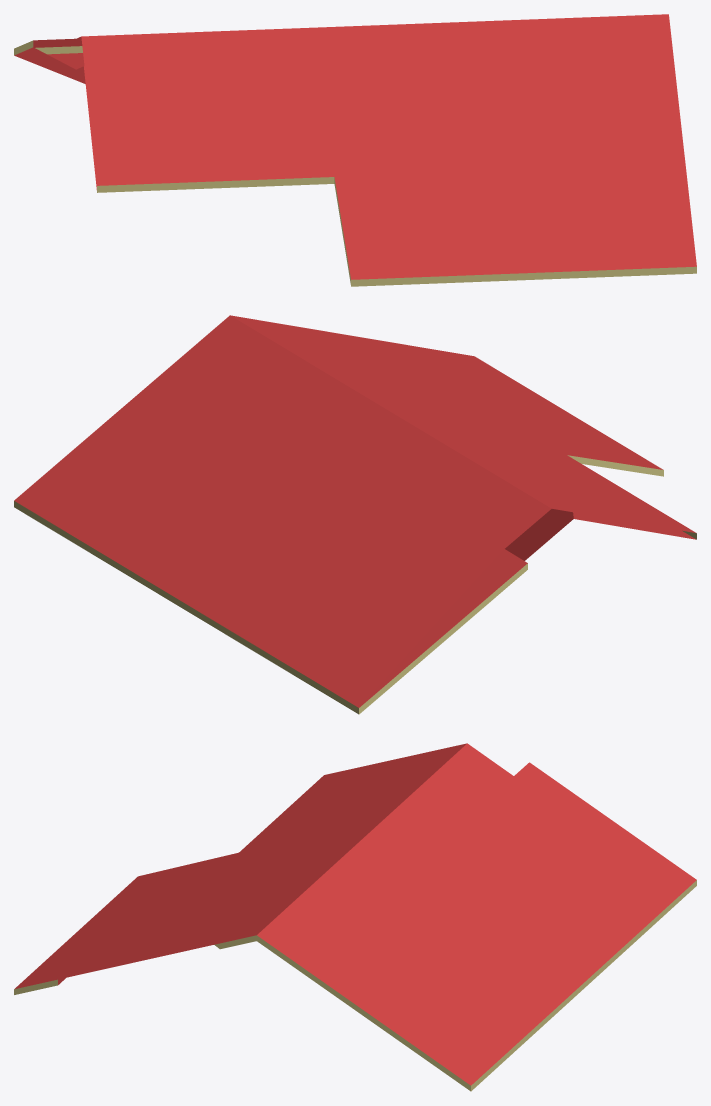
The picture shows the model from 3 angles, top to bottom: view 1: azimuth 30°, elevation 25°; view 2: azimuth 150°, elevation 25°; view 3: azimuth 270°, elevation 25°; orthographic projection. The views are drawn at different scales.
Size of the model in its own units: 9.56 by 10.52 by 1.94.
